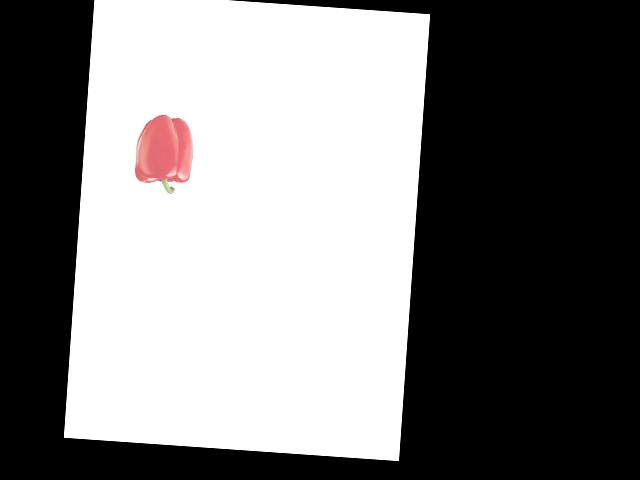bell_pepper: (129, 110, 198, 195)
